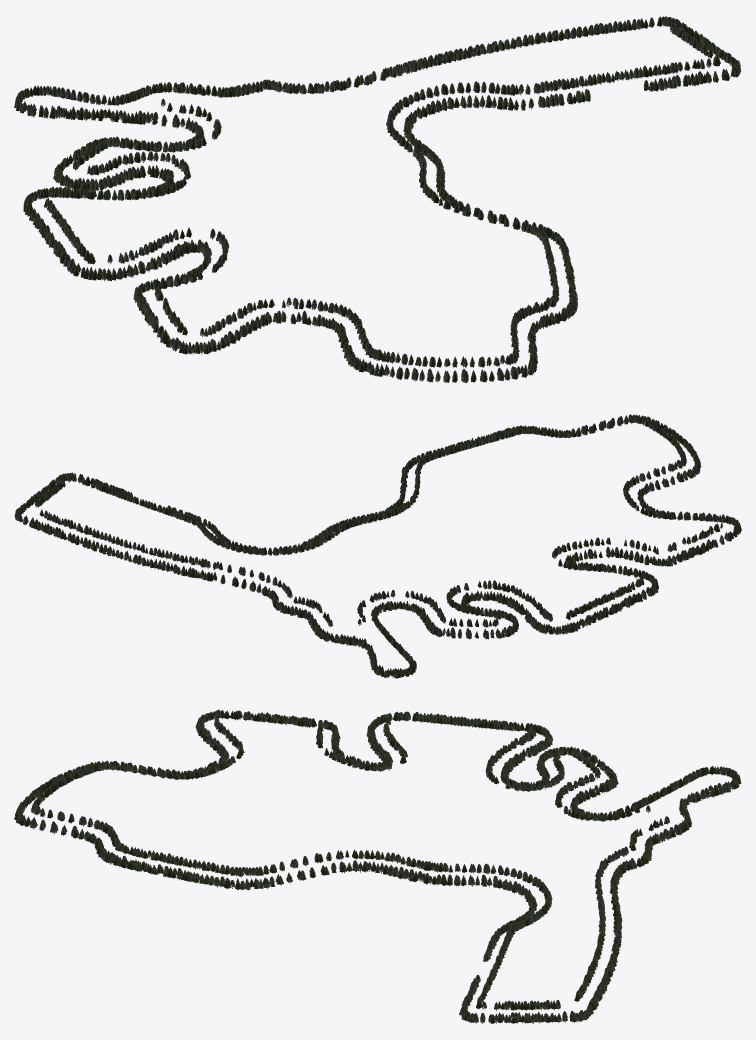
Rendered from tree.fbx.
3 views of the same model, one above another, from view 1: azimuth 30°, elevation 25°; view 2: azimuth 150°, elevation 25°; view 3: azimuth 270°, elevation 25° (orthographic). The views are drawn at different scales.
Size of the model in its own units: 87232 by 2199 by 87315.
